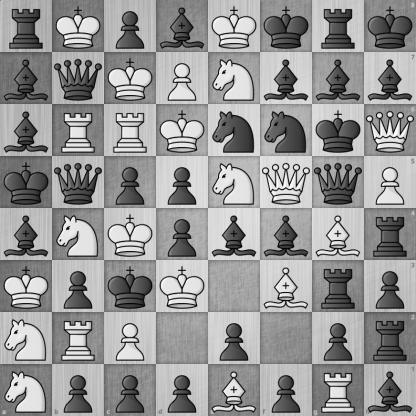B: (209, 364, 260, 416), (261, 261, 312, 312), (313, 209, 364, 260)
K: (1, 261, 52, 312), (53, 1, 104, 52), (105, 53, 156, 104), (105, 209, 156, 260), (157, 105, 208, 156), (157, 261, 208, 312), (209, 1, 260, 52)
N: (0, 364, 52, 416), (1, 313, 52, 364), (53, 209, 104, 260), (209, 53, 260, 104), (209, 157, 260, 208)
P: (364, 156, 416, 209), (105, 313, 156, 364), (157, 53, 208, 104)
Q: (364, 104, 416, 156), (261, 157, 312, 208)
R: (312, 364, 364, 416), (53, 105, 104, 156), (53, 313, 104, 364), (105, 105, 156, 156)
b: (364, 52, 416, 104), (364, 364, 416, 416), (1, 53, 52, 104), (1, 105, 52, 156), (1, 209, 52, 260), (157, 1, 208, 52), (209, 209, 260, 260), (261, 53, 312, 104), (261, 209, 312, 260), (313, 53, 364, 104)
board: (0, 0, 415, 415)
k: (364, 0, 416, 52), (1, 157, 52, 208), (105, 261, 156, 312), (261, 1, 312, 52), (313, 105, 364, 156)
n: (209, 105, 260, 156), (261, 105, 312, 156)
p: (156, 364, 209, 416), (52, 364, 104, 416), (104, 364, 156, 416), (260, 364, 312, 416), (364, 260, 416, 312), (53, 261, 104, 312), (105, 1, 156, 52), (105, 157, 156, 208), (157, 157, 208, 208), (157, 209, 208, 260), (209, 313, 260, 364), (313, 313, 364, 364)
q: (53, 53, 104, 104), (53, 157, 104, 208), (313, 157, 364, 208)
r: (364, 312, 416, 364), (364, 209, 416, 260), (1, 1, 52, 52), (313, 1, 364, 52), (313, 261, 364, 312)
